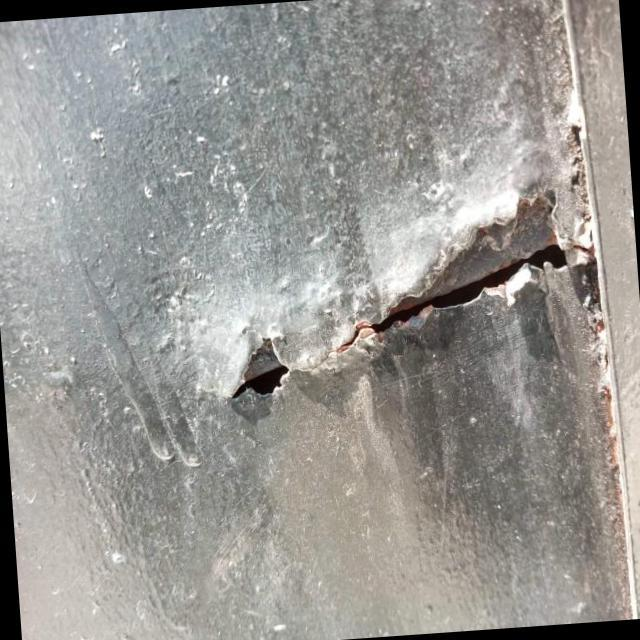defect: (225, 184, 577, 410)
